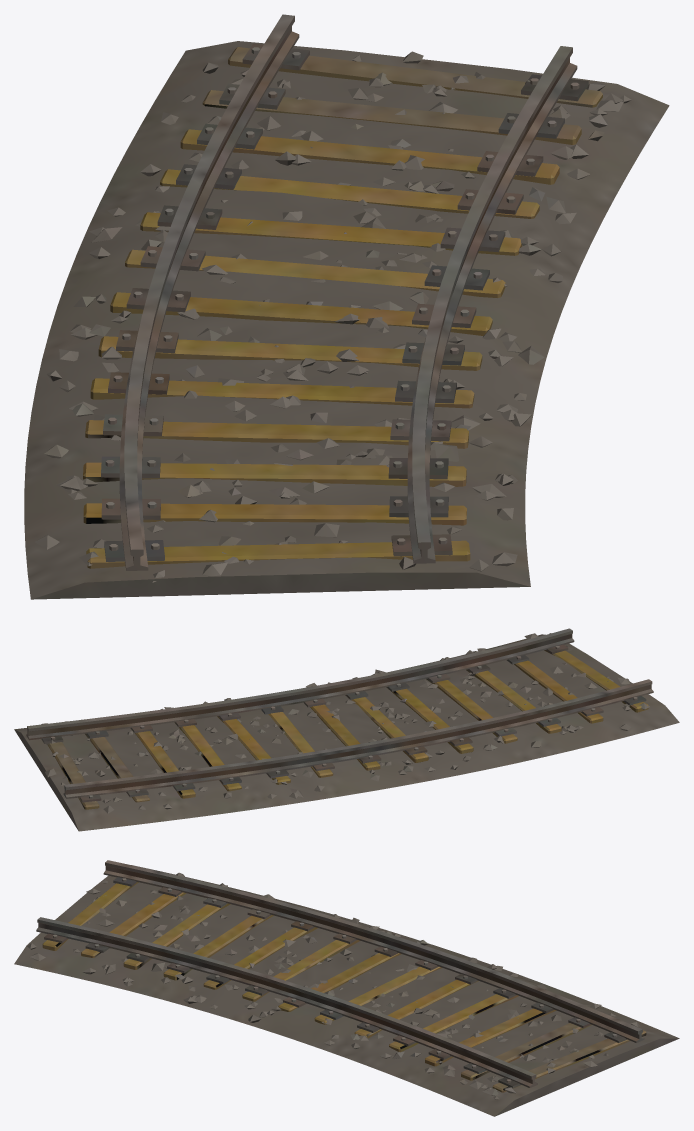
Rendered from curved-rail-b-ne.glb.
The picture shows the model from 3 angles, top to bottom: view 1: azimuth 30°, elevation 25°; view 2: azimuth 150°, elevation 25°; view 3: azimuth 270°, elevation 25°; orthographic projection. The views are drawn at different scales.
Visible parts, largest first — view 1: body; view 2: body; view 3: body.
Boxes of the visible parts, box(x1,y1,x2,y2) form: body: box(24, 14, 669, 599); body: box(14, 628, 679, 831); body: box(14, 860, 679, 1116).
Size of the model in its own units: 4.63 by 0.222 by 5.18.
Materials: 1 (1 with a texture image).
